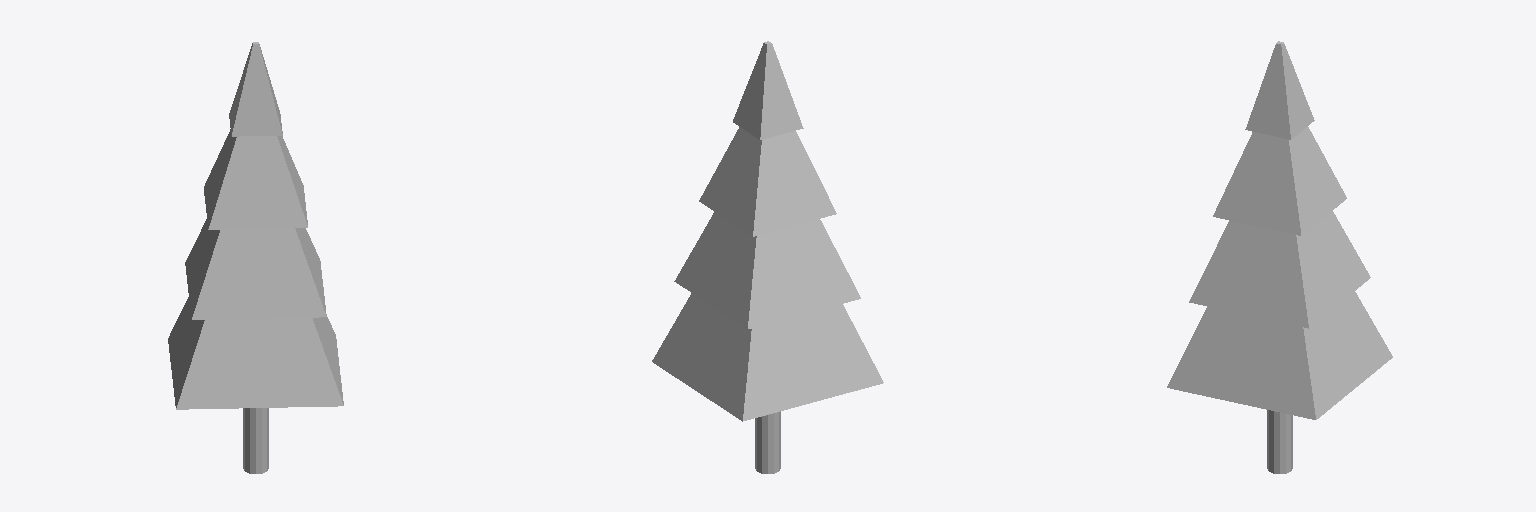
Rendered from tree.obj.
3 renders of one model, left to right at view 1: azimuth 30°, elevation 25°; view 2: azimuth 150°, elevation 25°; view 3: azimuth 270°, elevation 25°, orthographic.
Parts seen in each view (by area): view 1: Cylinder.005, Cylinder.004_Cylinder.002; view 2: Cylinder.005, Cylinder.004_Cylinder.002; view 3: Cylinder.005, Cylinder.004_Cylinder.002.
Boxes of the visible parts, x1,y1,x2,y2 form: Cylinder.005: [168, 42, 343, 409]; Cylinder.004_Cylinder.002: [243, 408, 268, 473]; Cylinder.005: [652, 41, 883, 421]; Cylinder.004_Cylinder.002: [755, 411, 780, 473]; Cylinder.005: [1167, 41, 1392, 419]; Cylinder.004_Cylinder.002: [1267, 410, 1292, 473].
Bounding box in the file's own units: 5.98 × 12.4 × 5.98.